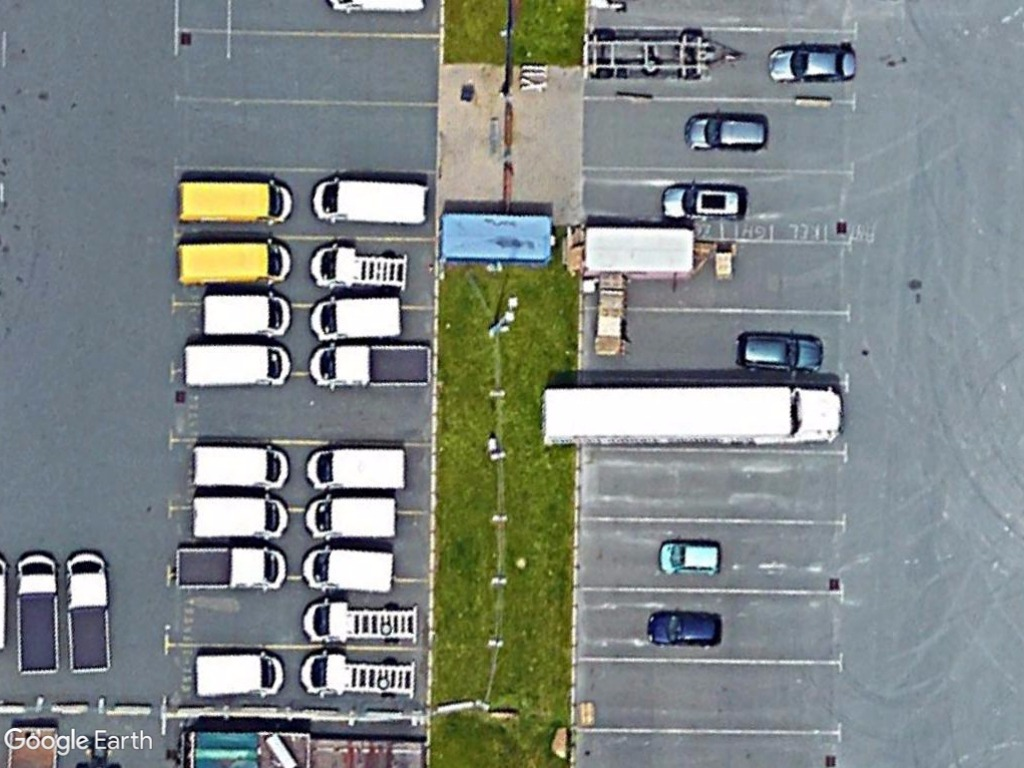car: (730, 324, 829, 375), (657, 181, 755, 226), (682, 109, 777, 154), (765, 43, 863, 86), (641, 607, 728, 651), (657, 538, 727, 581)
others: (11, 546, 67, 683), (303, 337, 436, 394), (172, 538, 292, 594), (67, 544, 113, 680)
truck: (536, 378, 850, 452)
van: (309, 172, 436, 232), (172, 235, 295, 290), (172, 176, 299, 227), (176, 338, 295, 391), (299, 443, 413, 496), (300, 489, 403, 546), (189, 645, 290, 702), (305, 292, 413, 344), (300, 543, 402, 598), (186, 440, 293, 492), (197, 283, 295, 338), (185, 493, 292, 541)
